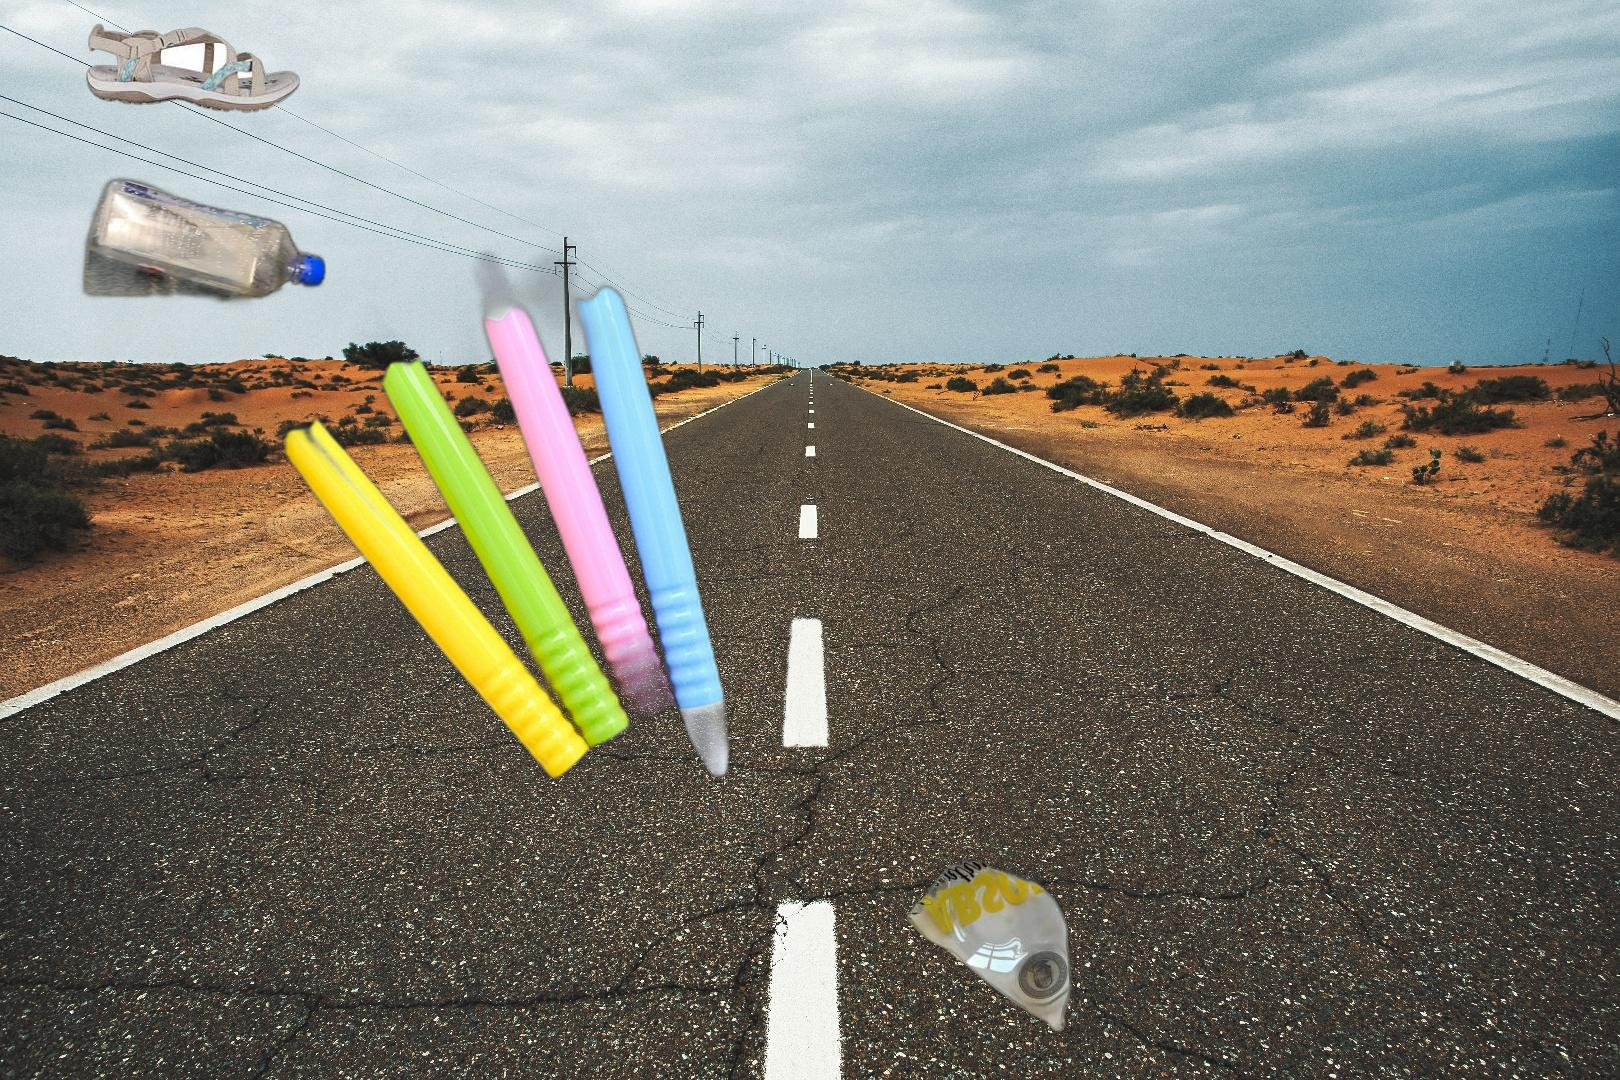glass: (902, 853, 1078, 1035)
penholder: (94, 99, 894, 899)
plastic-bottles: (74, 174, 330, 315)
shoes: (84, 20, 303, 116)
